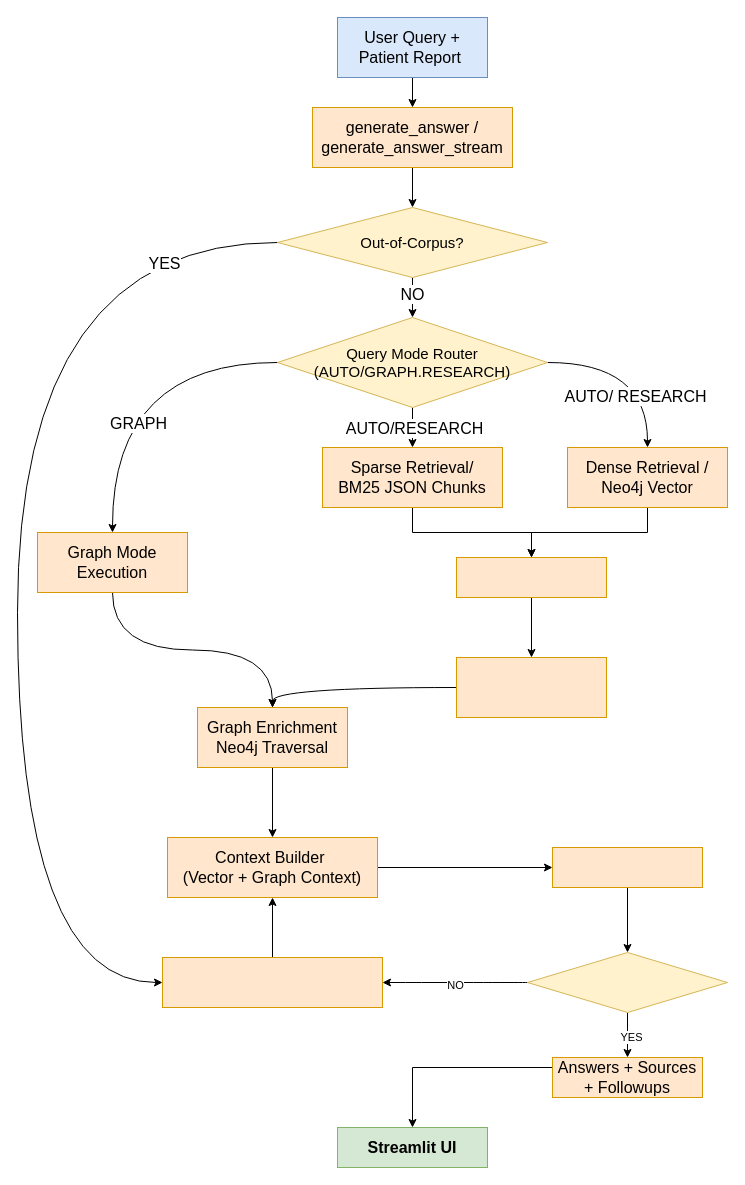
This 745x1185 diagram has some shape labels left out. Each missing label, with the centre of its shape:
Groq LLM Generation: (627,867)
Is the answer valid?: (627,982)
MMR Reranking Top K Chunks: (531,687)
RRF Fusion: (531,577)
Web Search Fallback (DuckDuckGo Search): (272,982)
